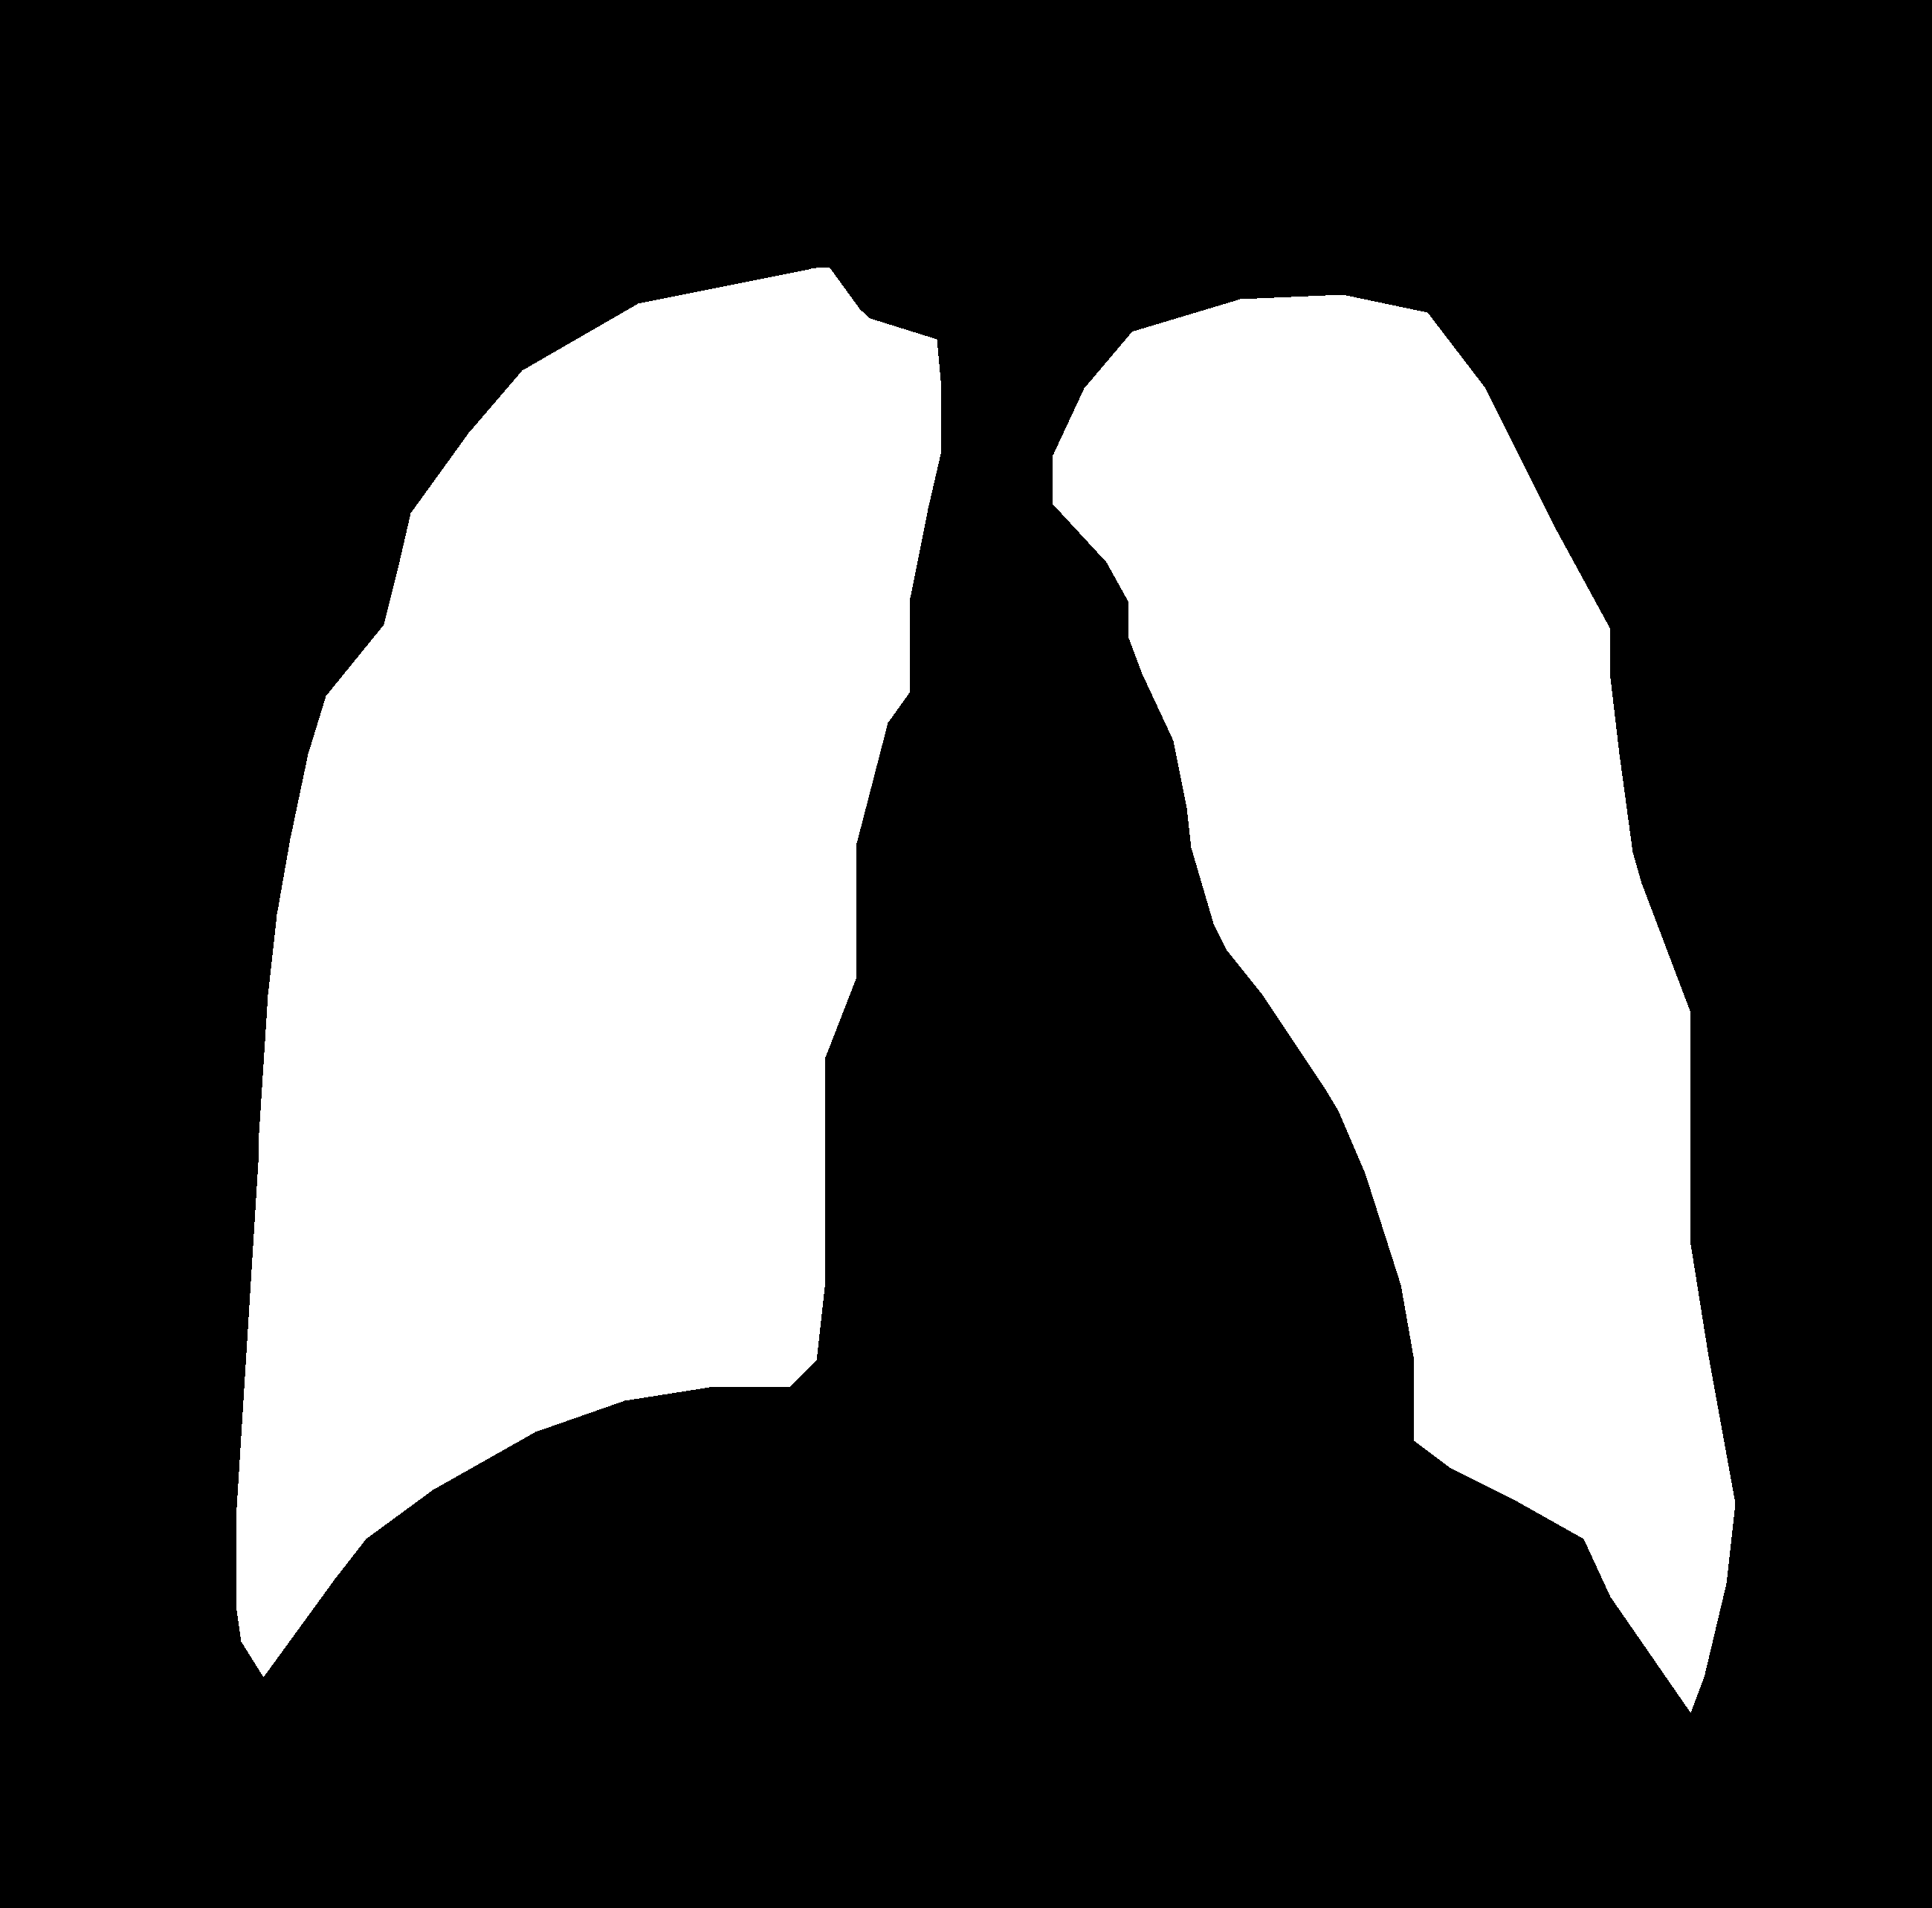heart: (777, 959, 1413, 1541)
left_lung: (231, 267, 940, 1674)
right_lung: (1053, 295, 1733, 1709)
